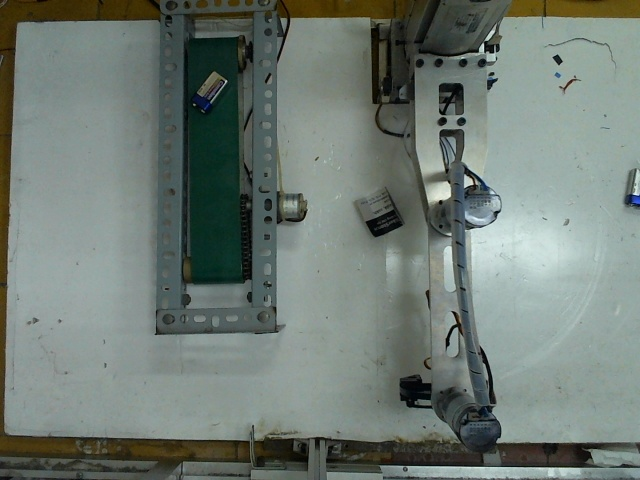battery: (188, 64, 227, 114)
